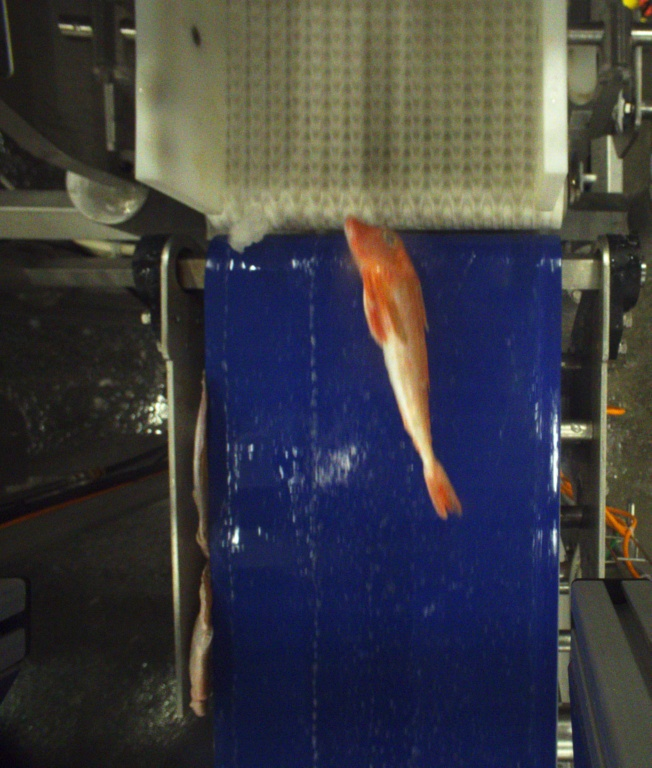GUU: (343, 214, 464, 522)
